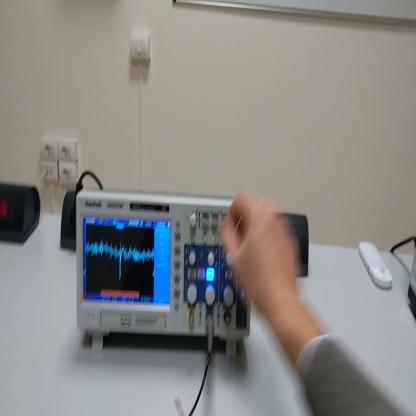hand: (220, 190, 303, 320)
oscilloscope: (75, 193, 253, 362)
socket: (2, 182, 42, 245), (60, 191, 76, 251)
welder station: (406, 249, 416, 308)
